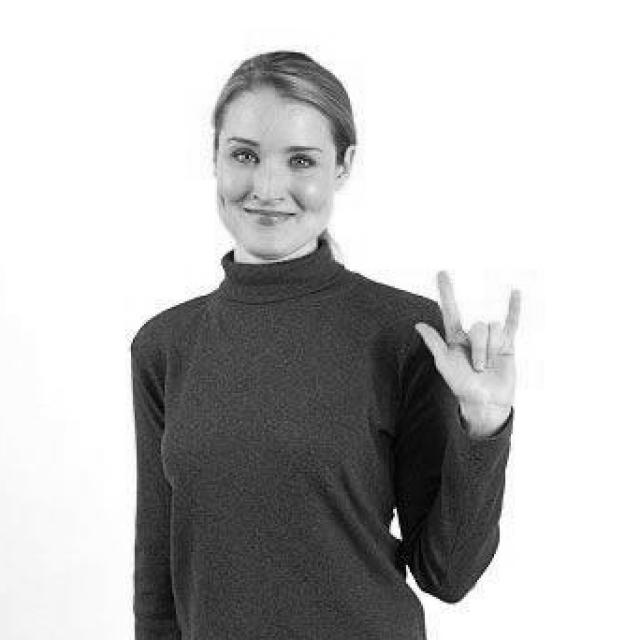i love you: (410, 263, 525, 424)
